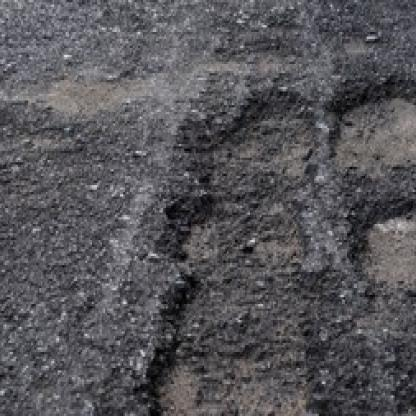pothole: (142, 85, 318, 416), (329, 85, 416, 177), (354, 201, 416, 293)
